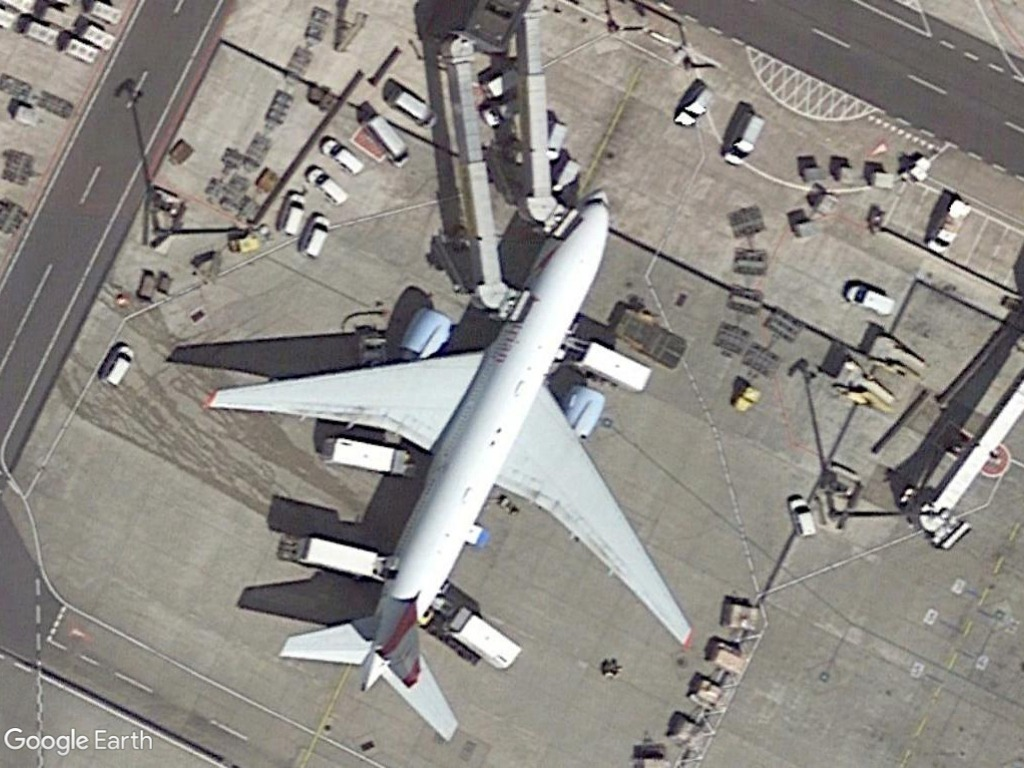airliner: (199, 182, 692, 754)
van: (721, 112, 769, 172), (360, 112, 411, 166), (391, 85, 440, 132), (843, 281, 898, 321), (673, 81, 717, 130), (302, 165, 350, 207), (317, 137, 367, 176), (296, 210, 334, 260), (99, 339, 137, 388), (277, 187, 308, 239), (786, 494, 821, 540)
